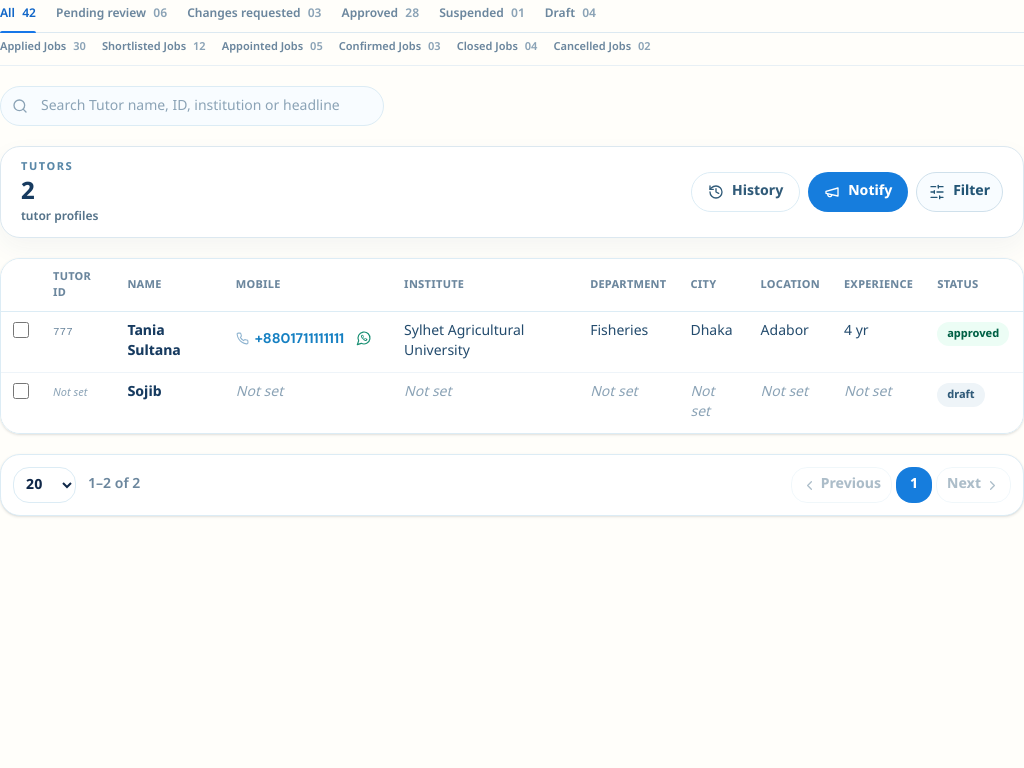
Scenario: Notify Tutors › shows exactly what will be sent on a review step before anything actually sends
Step 1. Click the button "Notify" → click(858, 192), box [808,172,908,212]
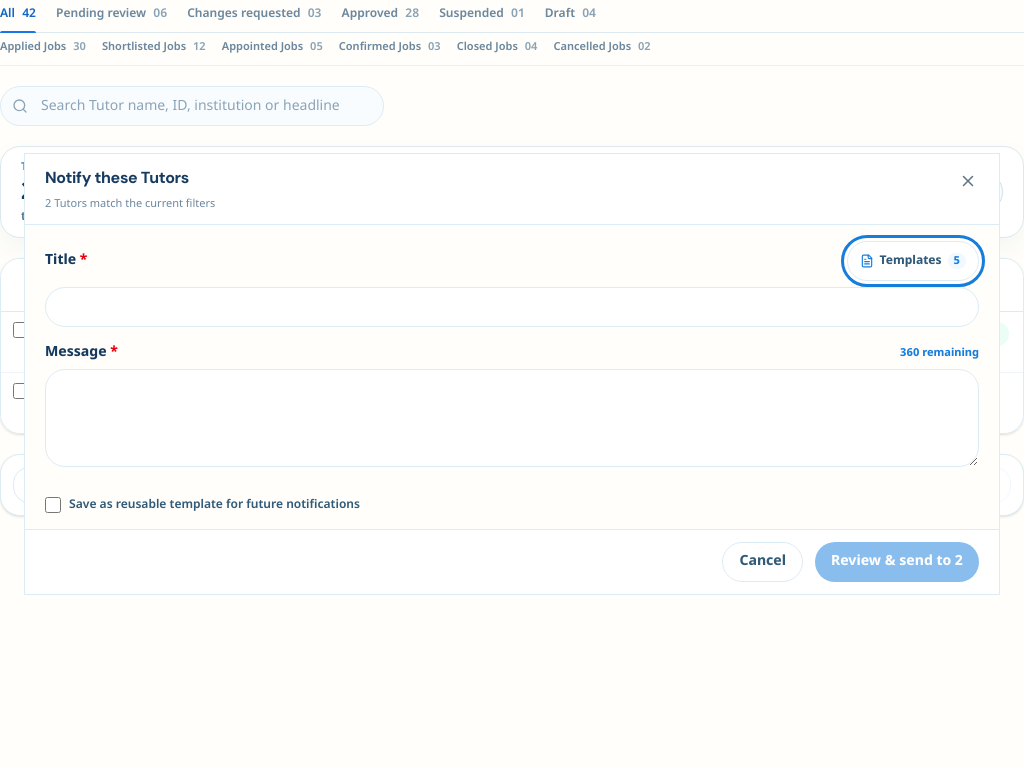
Step 2. Type "  Platform maintenance  " into the field labelled "Title *" → (512, 307), box [45,287,979,327]
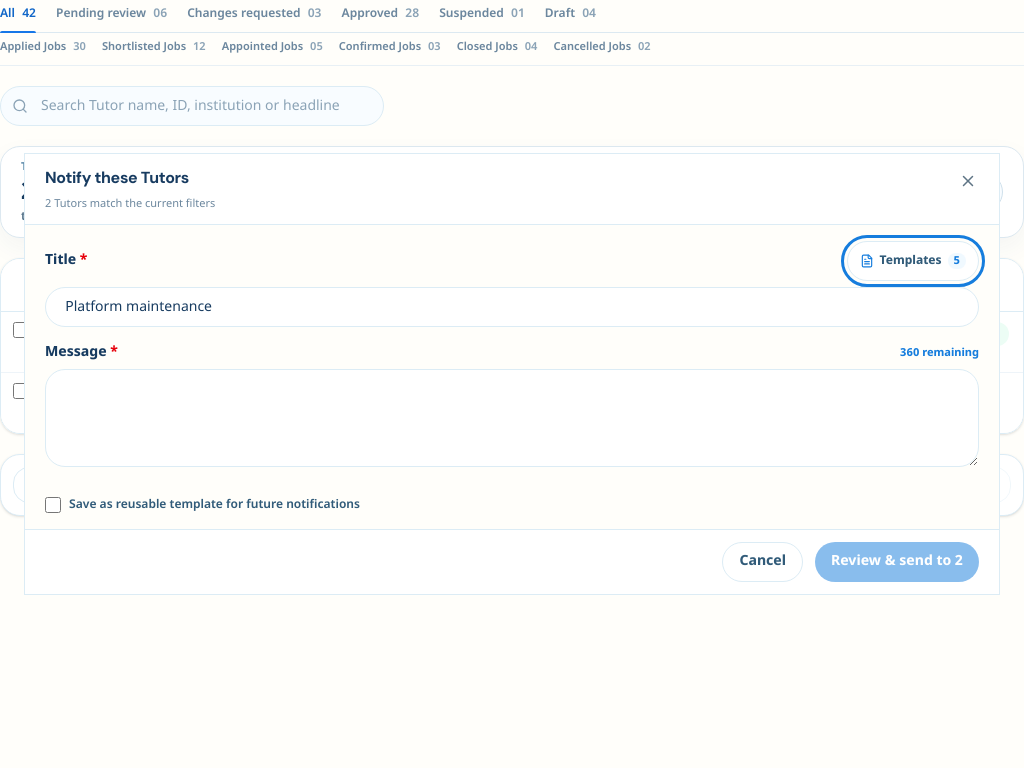
Step 3. Type "  We are pausing new applications for an hour tonight.  " into the text box labelled "Message *" → (512, 418), box [45,369,979,467]
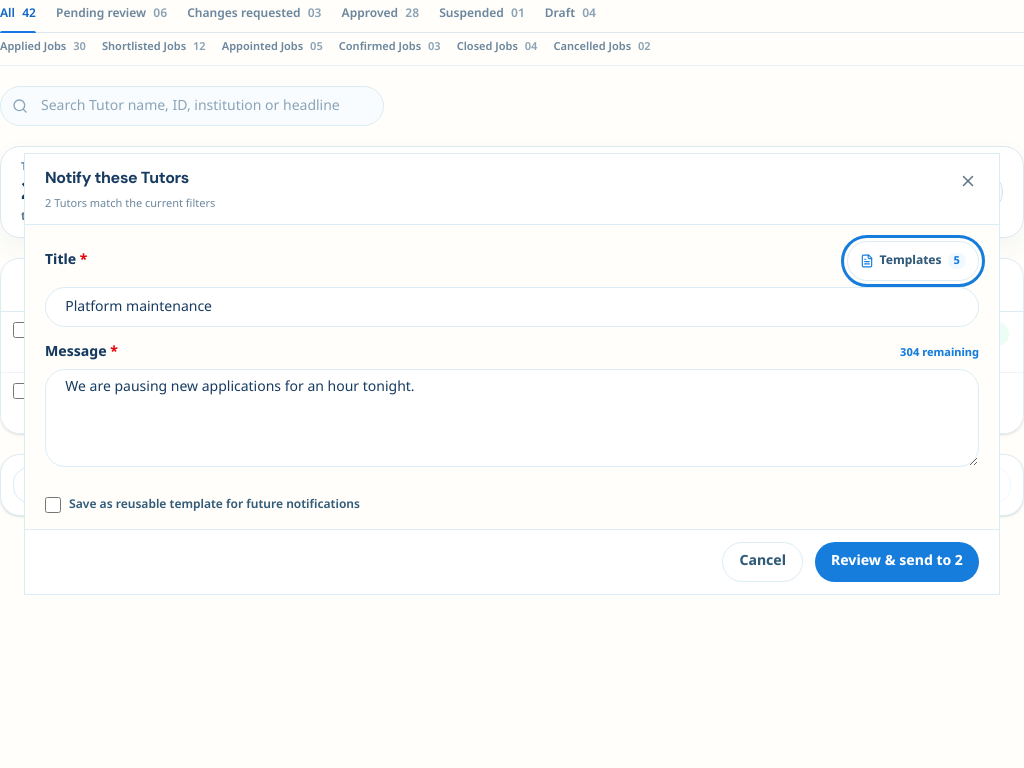
Step 4. Click the button "Review & send to 2" → click(897, 562), box [815,542,979,582]
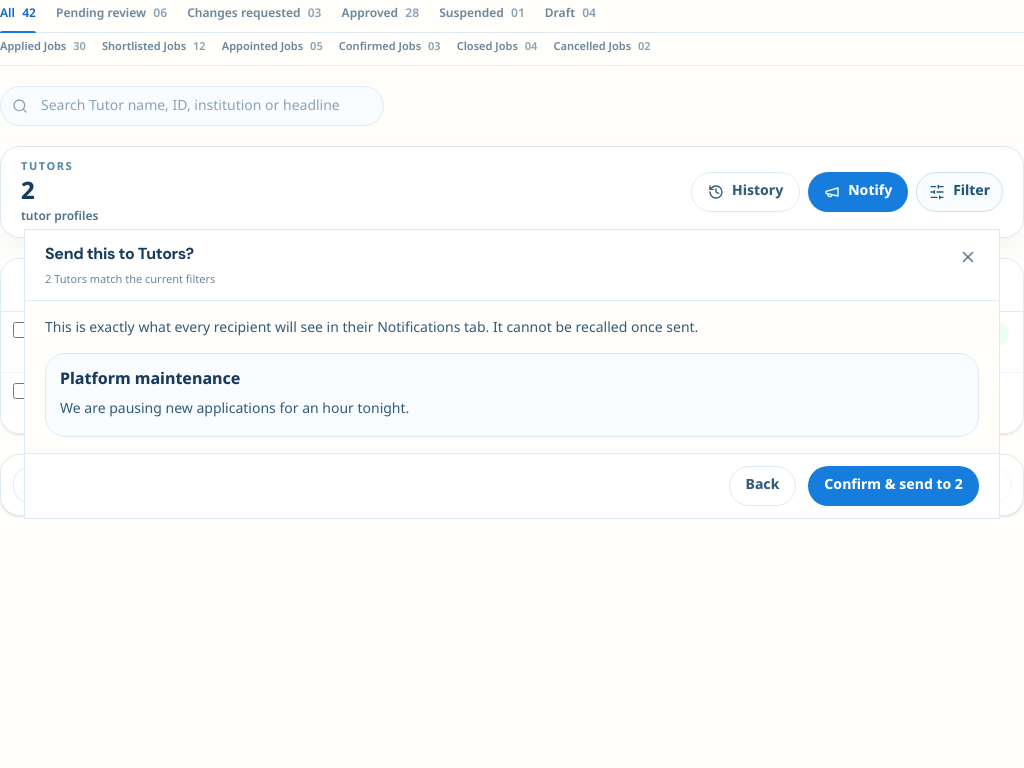
Result: the dialog "Send this to Tutors?" shows "Platform maintenance" at [60,369,240,391]
Result: the dialog "Send this to Tutors?" shows "We are pausing new applications for an hour tonight." at [60,400,409,419]
Result: the label labelled "Title" is gone
